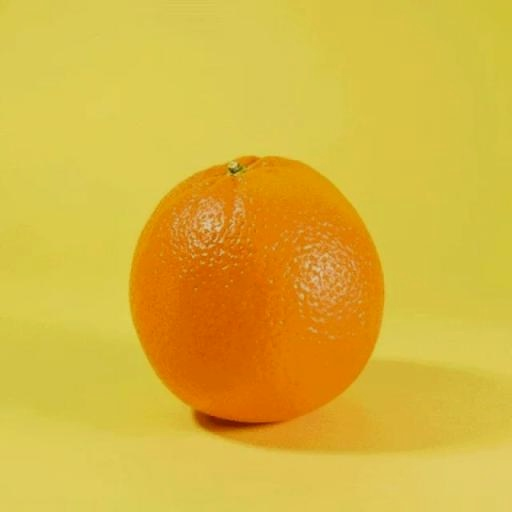fruit: (130, 156, 383, 421)
